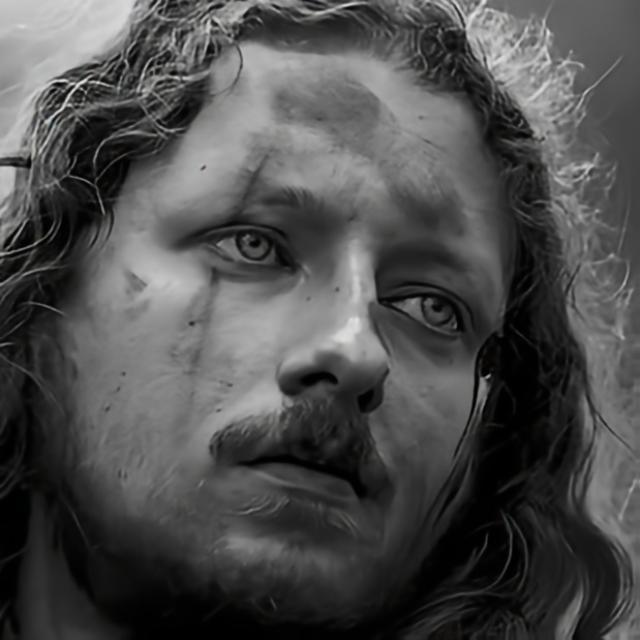sad: (70, 36, 518, 621)
